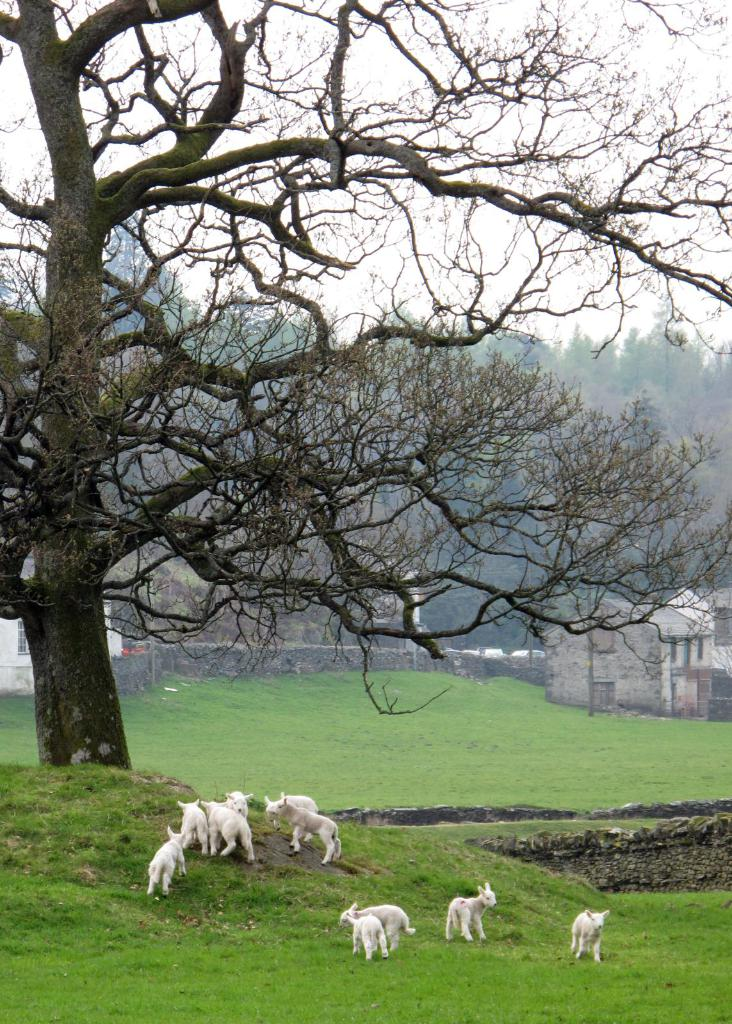sheep: (442, 879, 502, 944), (344, 903, 391, 959), (566, 910, 608, 964)
